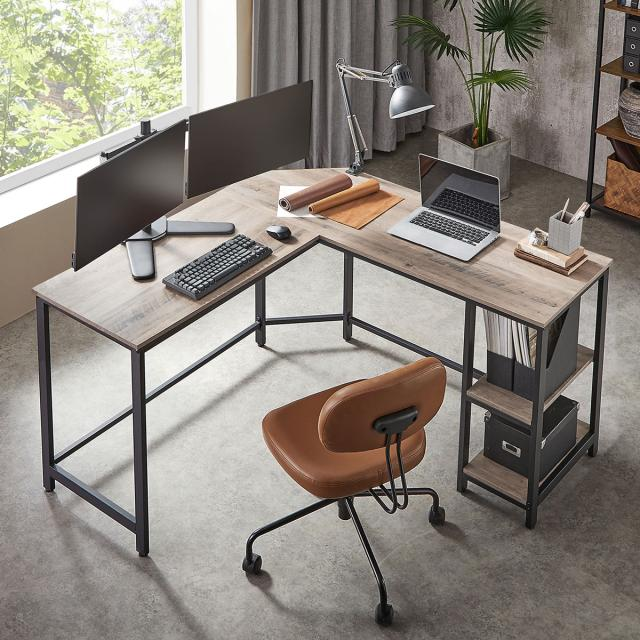chair: (237, 350, 451, 634)
computer: (74, 79, 318, 301), (384, 149, 505, 263)
table: (33, 171, 611, 557)
